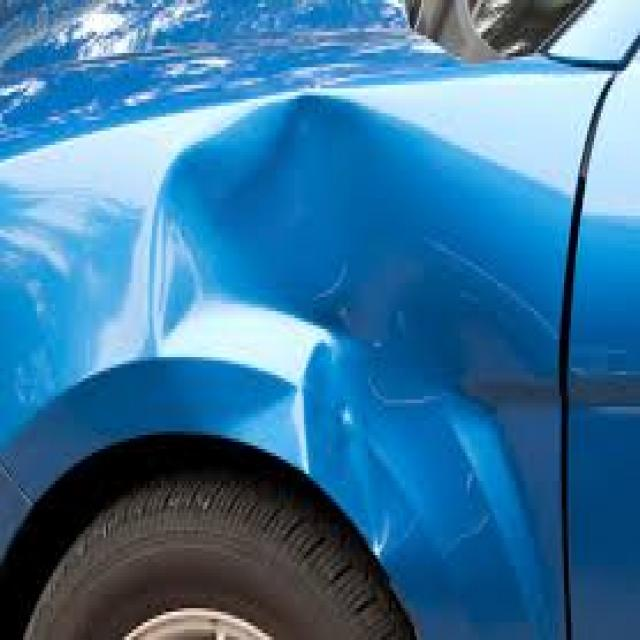minor: (124, 100, 578, 559)
